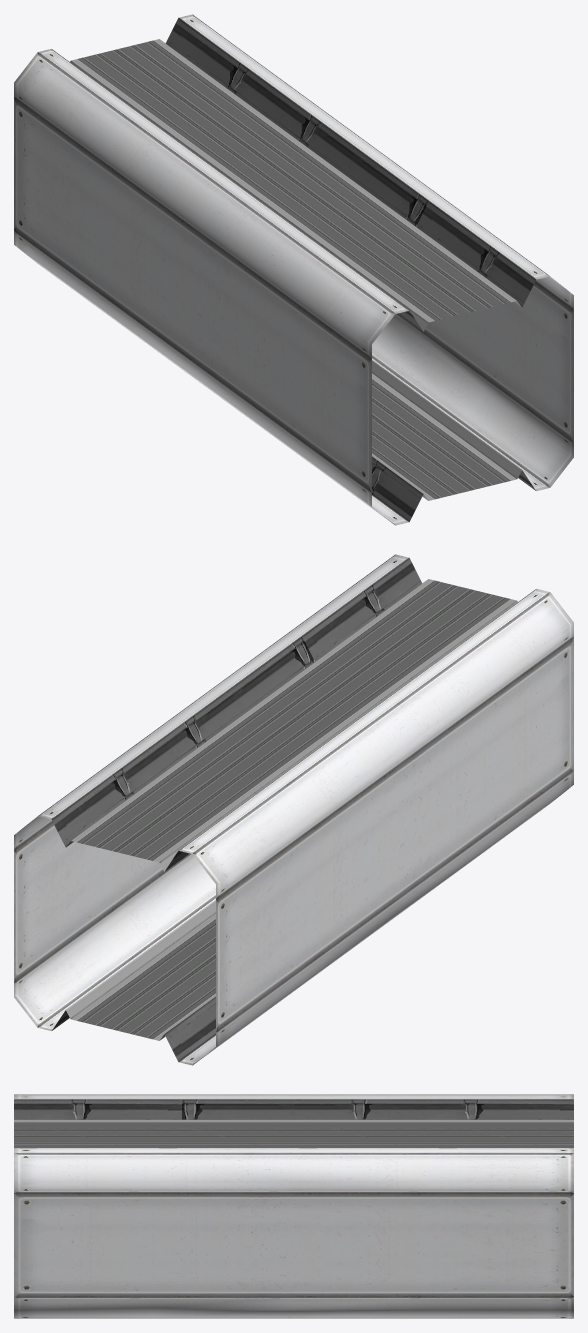
The model's file is CeilingBrace_1x4capped.FBX.
The picture shows the model from 3 angles, top to bottom: view 1: azimuth 30°, elevation 25°; view 2: azimuth 150°, elevation 25°; view 3: azimuth 270°, elevation 25°; orthographic projection. The views are drawn at different scales.
Parts seen in each view (by area): view 1: CeilingBrace_1x4capped; view 2: CeilingBrace_1x4capped; view 3: CeilingBrace_1x4capped.
Part boxes in pixels (x1,y1,x2,y2): CeilingBrace_1x4capped: [14, 14, 573, 525]; CeilingBrace_1x4capped: [14, 554, 573, 1065]; CeilingBrace_1x4capped: [14, 1094, 573, 1318].
Bounding box in the file's own units: 1.3 × 1.3 × 4.
